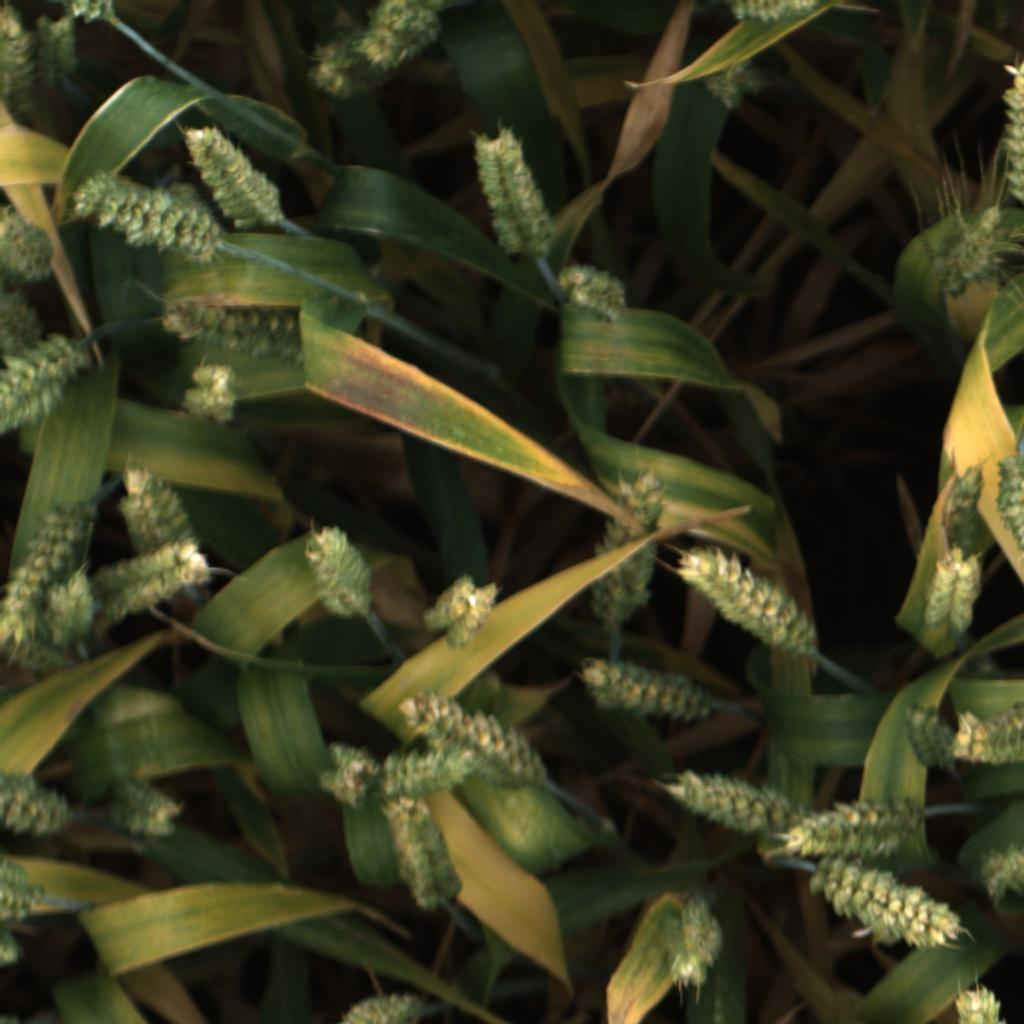0-0: (402, 686, 554, 791), (680, 538, 816, 650), (0, 494, 100, 646), (806, 858, 964, 953), (74, 176, 227, 271), (175, 118, 293, 236), (584, 467, 666, 627), (467, 115, 552, 261), (566, 654, 712, 728), (379, 801, 464, 926), (105, 536, 218, 625), (667, 757, 782, 837), (918, 201, 1010, 297), (157, 300, 314, 356), (1, 331, 87, 432), (775, 797, 917, 857), (297, 514, 376, 614), (381, 742, 482, 808), (1, 5, 58, 120), (360, 0, 450, 69), (421, 567, 496, 649), (659, 901, 723, 995), (109, 772, 188, 846), (920, 549, 987, 635), (948, 695, 1024, 768), (117, 463, 192, 536), (934, 461, 989, 558), (172, 358, 248, 427), (307, 34, 383, 101), (552, 259, 629, 325), (1, 200, 60, 285), (4, 768, 73, 839), (319, 736, 384, 808), (892, 699, 953, 775), (47, 562, 97, 649), (699, 57, 768, 120), (997, 59, 1024, 212), (326, 986, 434, 1024), (973, 835, 1024, 906), (0, 623, 72, 673), (34, 12, 83, 84), (1000, 440, 1024, 583), (943, 978, 1017, 1023), (0, 853, 44, 925), (3, 291, 45, 349), (726, 0, 824, 24), (55, 0, 118, 26), (0, 926, 26, 969)
